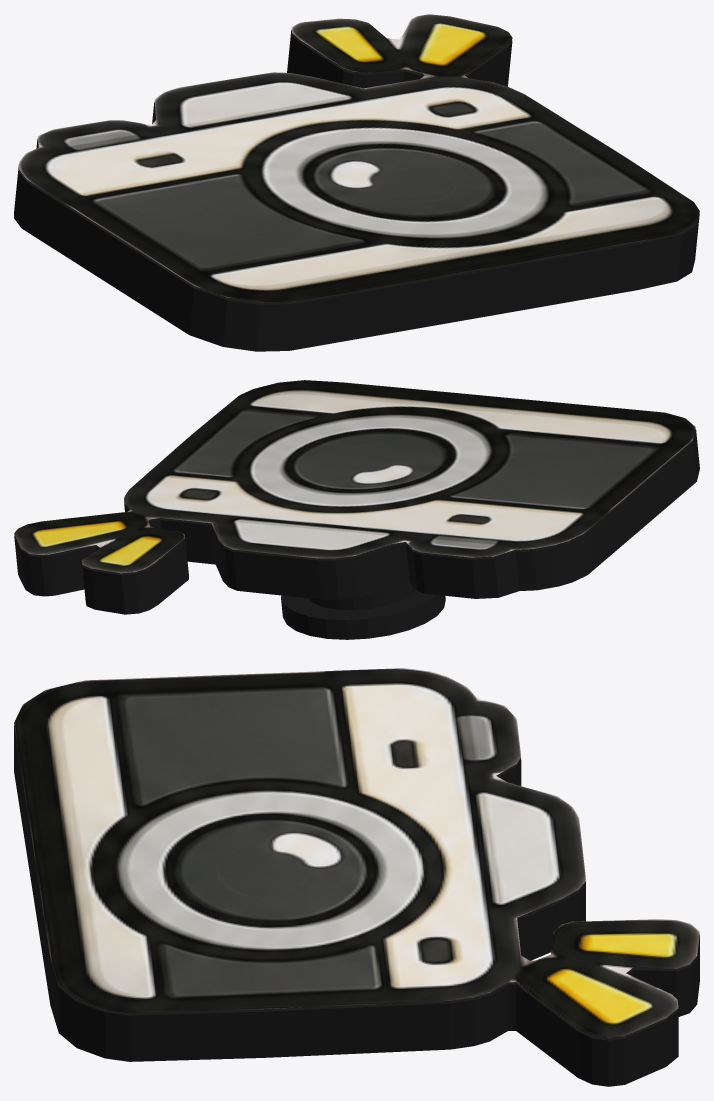
The model's file is travel-camera.glb.
3 renders of one model, top to bottom at view 1: azimuth 30°, elevation 25°; view 2: azimuth 150°, elevation 25°; view 3: azimuth 270°, elevation 25°, orthographic. The views are drawn at different scales.
Visible parts, largest first — view 1: TRAVEL_Camera_MODEL; view 2: TRAVEL_Camera_MODEL; view 3: TRAVEL_Camera_MODEL.
Boxes of the visible parts, bbox=[...] form: TRAVEL_Camera_MODEL: bbox=[14, 14, 699, 351]; TRAVEL_Camera_MODEL: bbox=[14, 380, 699, 639]; TRAVEL_Camera_MODEL: bbox=[14, 668, 699, 1086].
Size of the model in its own units: 0.3391 by 0.101 by 0.3238.
3 materials, 1 textured.
